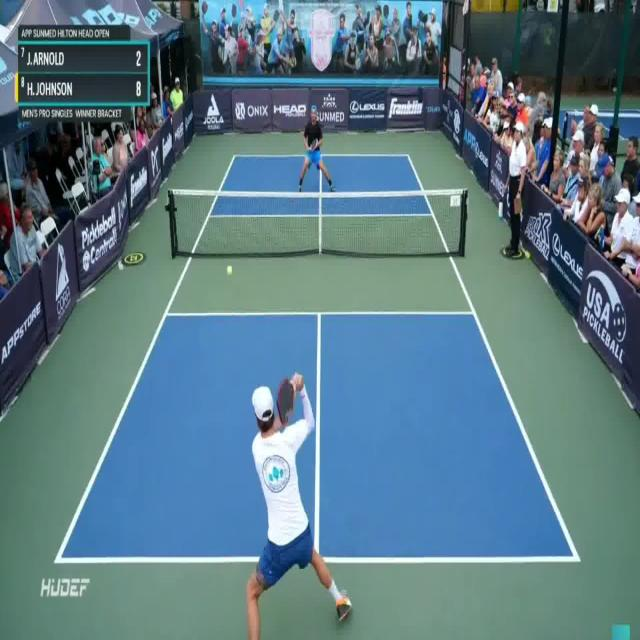Court: (54, 153, 577, 558)
ball: (224, 256, 236, 283)
